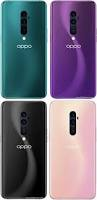oppo: (48, 100, 97, 200), (45, 4, 94, 103), (1, 100, 48, 200), (1, 1, 48, 99)
